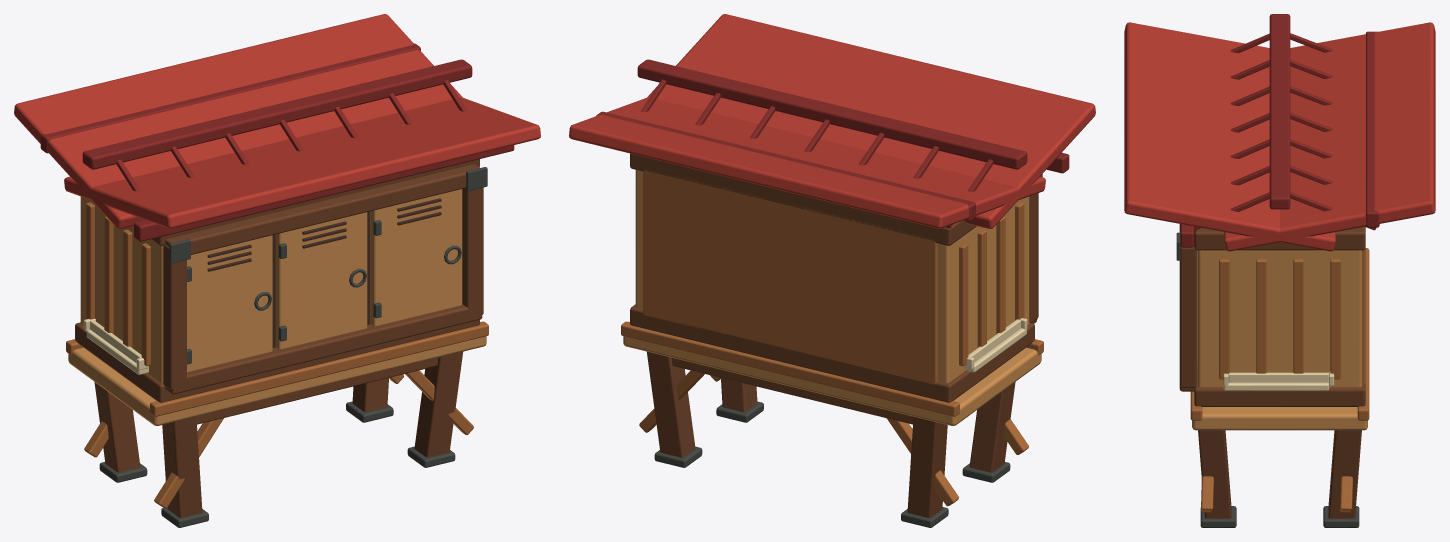
The model's file is asset.glb.
3 views of the same model, side by side, from view 1: azimuth 30°, elevation 25°; view 2: azimuth 150°, elevation 25°; view 3: azimuth 270°, elevation 25° (orthographic).
Visible parts, largest first — view 1: Roof_Back_Slab, Roof_Front_Slab, Door_Panel_3, Door_Panel_2, Door_Panel_1, Roof_Ridge_Cap, Door_Frame_Top, Left_Side_Wall, Door_Frame_Bottom, Lower_Shelf_Board, Lower_Shelf_Front_Trim, Cabin_Bottom_Rail (+18 smaller); view 2: Back_Wall, Roof_Front_Slab, Roof_Back_Slab, Roof_Ridge_Cap, Left_Side_Wall, Cabin_Bottom_Rail, Lower_Shelf_Board, Top_Cabin_Rail, Lower_Shelf_Back_Trim, Support_Leg_1.34_-0.61, Support_Leg_-1.34_-0.61, Support_Leg_-1.34_0.61 (+12 smaller); view 3: Roof_Front_Slab, Roof_Back_Slab, Right_Side_Wall, Roof_Ridge_Cap, Lower_Shelf_Board, Cabin_Bottom_Rail, Door_Frame_Stile_1.47, Support_Leg_1.34_0.61, Support_Leg_1.34_-0.61, Roof_Back_Fascia, Top_Cabin_Rail, Side_Batten_1.575_-0.48 (+11 smaller).
Part boxes in pixels (left/top/right/bottom): Roof_Back_Slab: left=14, top=14, right=462, bottom=228; Roof_Front_Slab: left=64, top=97, right=540, bottom=228; Door_Panel_3: left=370, top=189, right=462, bottom=326; Door_Panel_2: left=275, top=212, right=367, bottom=349; Door_Panel_1: left=187, top=235, right=272, bottom=372; Roof_Ridge_Cap: left=82, top=59, right=472, bottom=169; Door_Frame_Top: left=165, top=164, right=479, bottom=254; Left_Side_Wall: left=80, top=196, right=163, bottom=383; Door_Frame_Bottom: left=165, top=304, right=482, bottom=394; Lower_Shelf_Board: left=68, top=336, right=486, bottom=425; Lower_Shelf_Front_Trim: left=150, top=321, right=488, bottom=416; Cabin_Bottom_Rail: left=75, top=320, right=479, bottom=402; Back_Wall: left=643, top=169, right=937, bottom=384; Roof_Front_Slab: left=647, top=14, right=1095, bottom=228; Roof_Back_Slab: left=569, top=97, right=1045, bottom=228; Roof_Ridge_Cap: left=637, top=59, right=1027, bottom=169; Left_Side_Wall: left=938, top=196, right=1029, bottom=383; Cabin_Bottom_Rail: left=630, top=304, right=1034, bottom=402; Lower_Shelf_Board: left=623, top=336, right=1041, bottom=425; Top_Cabin_Rail: left=630, top=153, right=976, bottom=245; Lower_Shelf_Back_Trim: left=621, top=321, right=959, bottom=416; Support_Leg_1.34_-0.61: left=647, top=351, right=695, bottom=457; Support_Leg_-1.34_-0.61: left=907, top=417, right=947, bottom=517; Support_Leg_-1.34_0.61: left=969, top=382, right=1015, bottom=472; Roof_Front_Slab: left=1124, top=22, right=1335, bottom=251; Roof_Back_Slab: left=1224, top=22, right=1435, bottom=251; Right_Side_Wall: left=1197, top=250, right=1362, bottom=387; Roof_Ridge_Cap: left=1269, top=14, right=1290, bottom=209; Lower_Shelf_Board: left=1192, top=407, right=1367, bottom=430; Cabin_Bottom_Rail: left=1194, top=250, right=1365, bottom=406; Door_Frame_Stile_1.47: left=1179, top=247, right=1196, bottom=387; Support_Leg_1.34_0.61: left=1198, top=430, right=1231, bottom=518; Support_Leg_1.34_-0.61: left=1328, top=430, right=1361, bottom=518; Roof_Back_Fascia: left=1365, top=31, right=1379, bottom=227; Top_Cabin_Rail: left=1194, top=226, right=1365, bottom=250; Side_Batten_1.575_-0.48: left=1330, top=259, right=1340, bottom=379.
Bounding box in the file's own units: 3.78 × 3.39 × 2.69.
